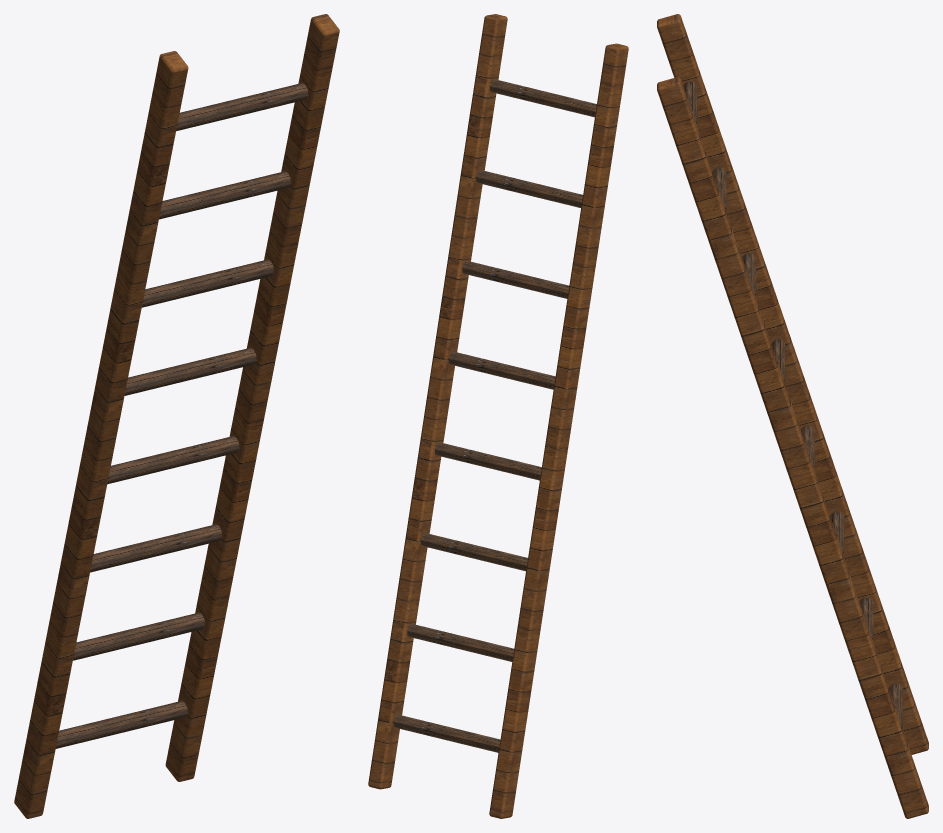
File: wooden-ladder-v01.glb
3 views of the same model, side by side, from view 1: azimuth 30°, elevation 25°; view 2: azimuth 150°, elevation 25°; view 3: azimuth 270°, elevation 25° (orthographic). The views are drawn at different scales.
Visible parts, largest first — view 1: wooden-ladder; view 2: wooden-ladder; view 3: wooden-ladder.
Boxes of the visible parts, x1,y1,x2,y2 form: wooden-ladder: (14, 14, 339, 818); wooden-ladder: (368, 14, 628, 818); wooden-ladder: (657, 14, 928, 818).
Size of the model in its own units: 0.67 by 3.27 by 1.09.
2 materials, 2 textured.
